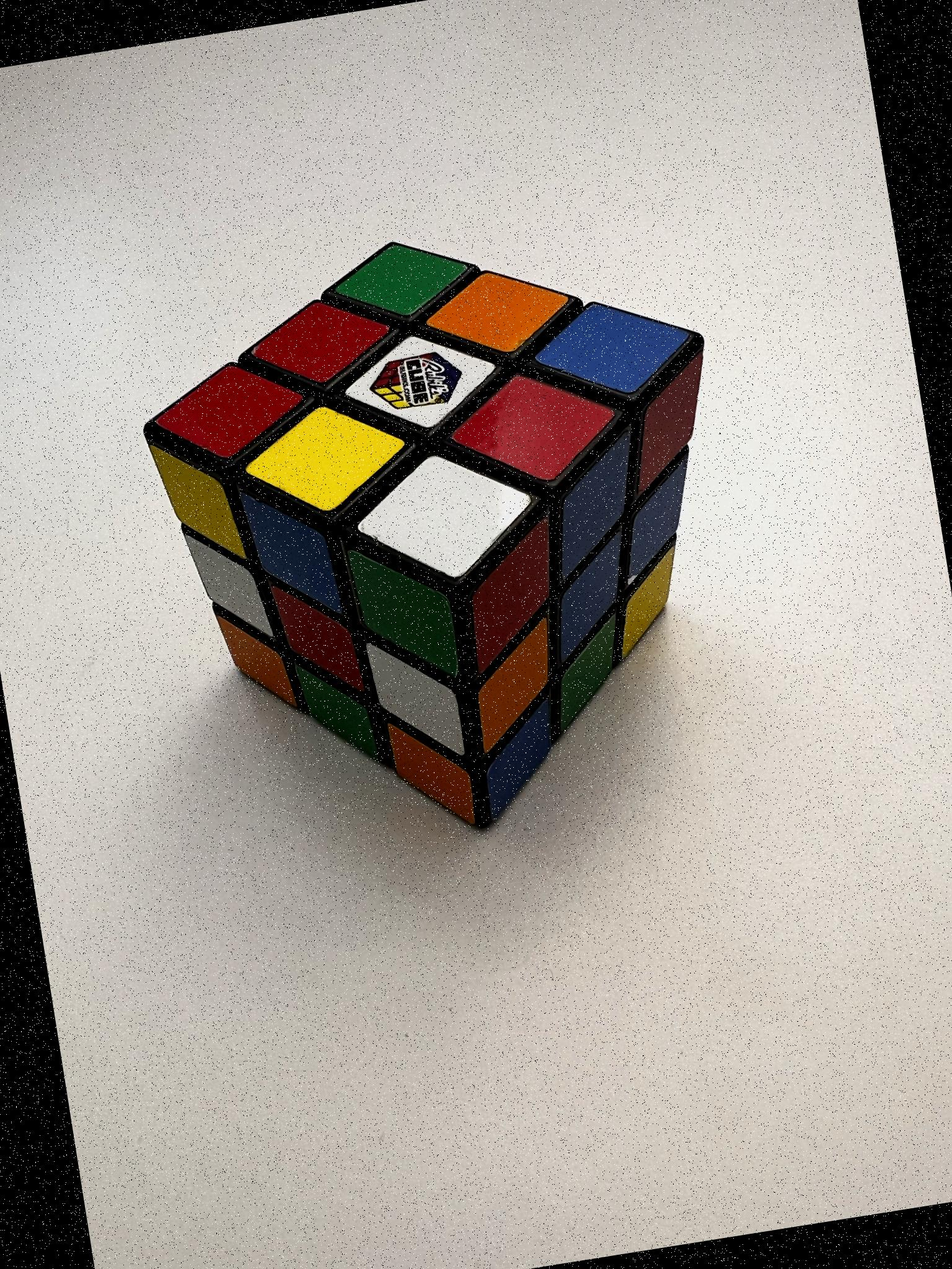rubiks_cube: (150, 243, 703, 823)
